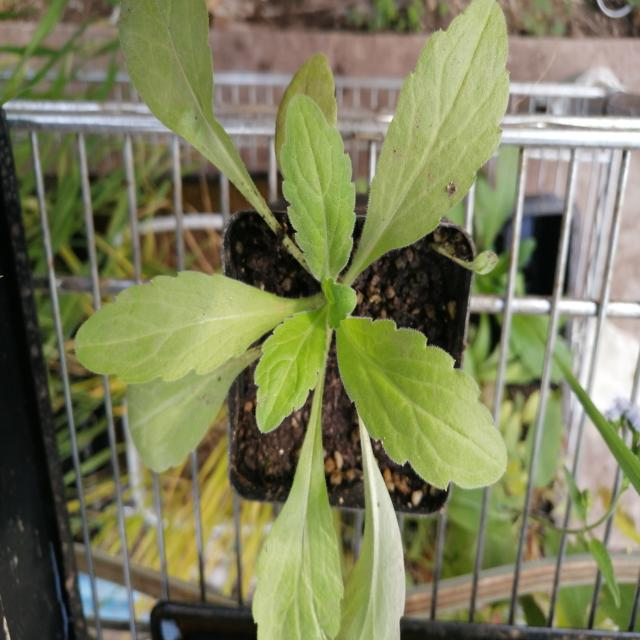horseweed: (103, 16, 511, 612)
